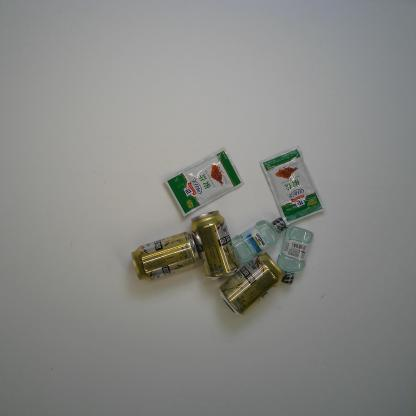Alcohol: (218, 251, 286, 316), (190, 210, 240, 281), (131, 231, 200, 282)
Personal Hygiene: (231, 216, 287, 264), (277, 226, 314, 285)
Seasoner: (164, 146, 245, 218), (259, 145, 325, 226)
